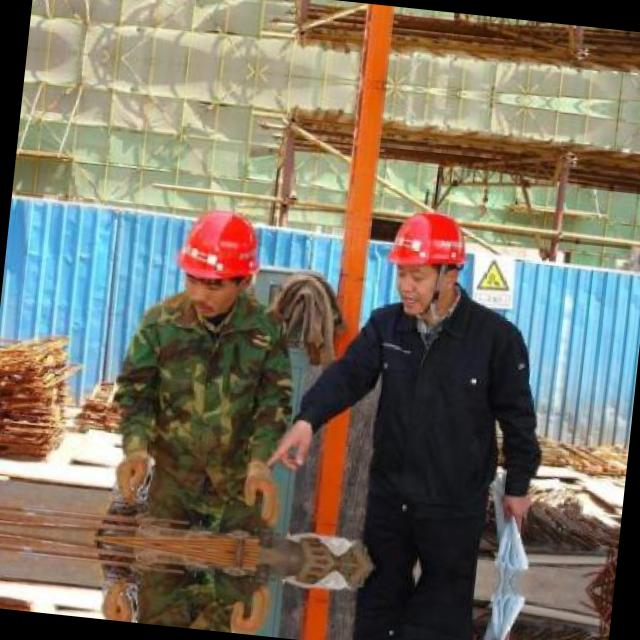helmet: (170, 196, 269, 324), (380, 202, 467, 320)
